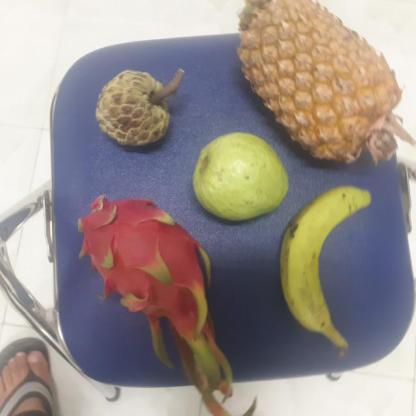annona: (91, 70, 174, 149)
banana: (275, 188, 369, 341)
guava: (188, 132, 288, 220)
pitaya: (71, 196, 214, 341)
